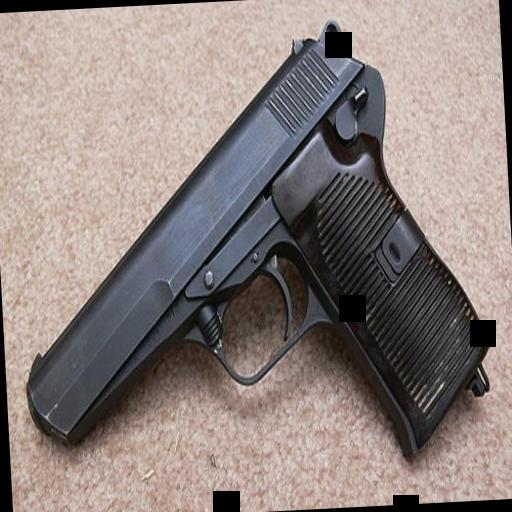Handgun: (6, 16, 496, 454)
